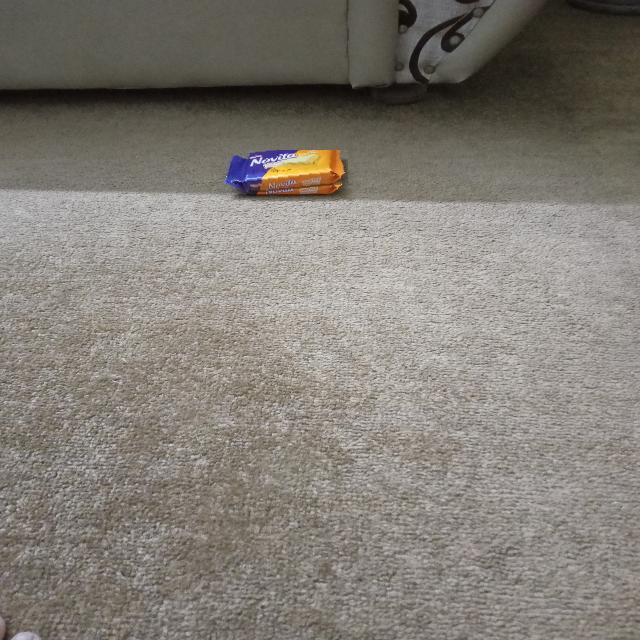Plastic: (218, 150, 348, 196)
